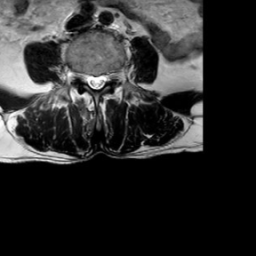CCS_stenosis: (93, 66, 100, 97)
LFS_normal: (108, 64, 115, 87)
LLS_normal: (100, 67, 108, 91)
RFS_normal: (77, 64, 85, 89)
RLS_normal: (85, 64, 93, 93)
